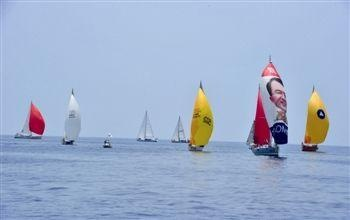fanchuan: (245, 59, 289, 156), (298, 82, 336, 153), (186, 80, 221, 152), (60, 88, 88, 146), (12, 100, 47, 140), (134, 112, 159, 142), (169, 116, 189, 145)
